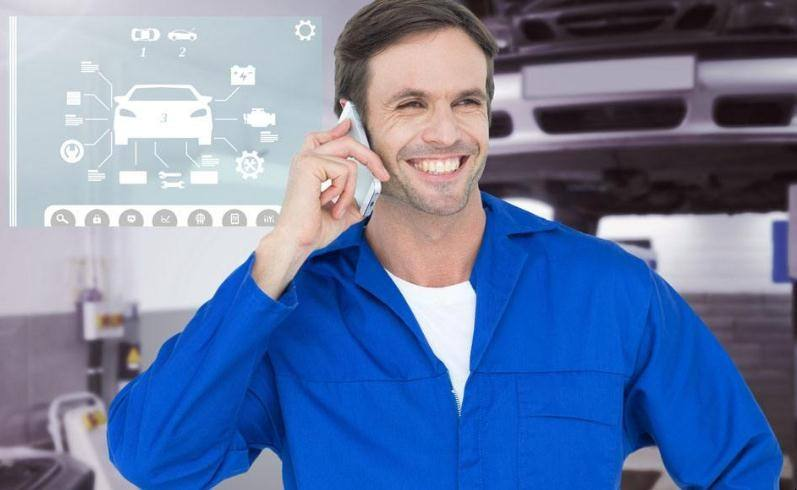calling: (280, 100, 392, 250)
